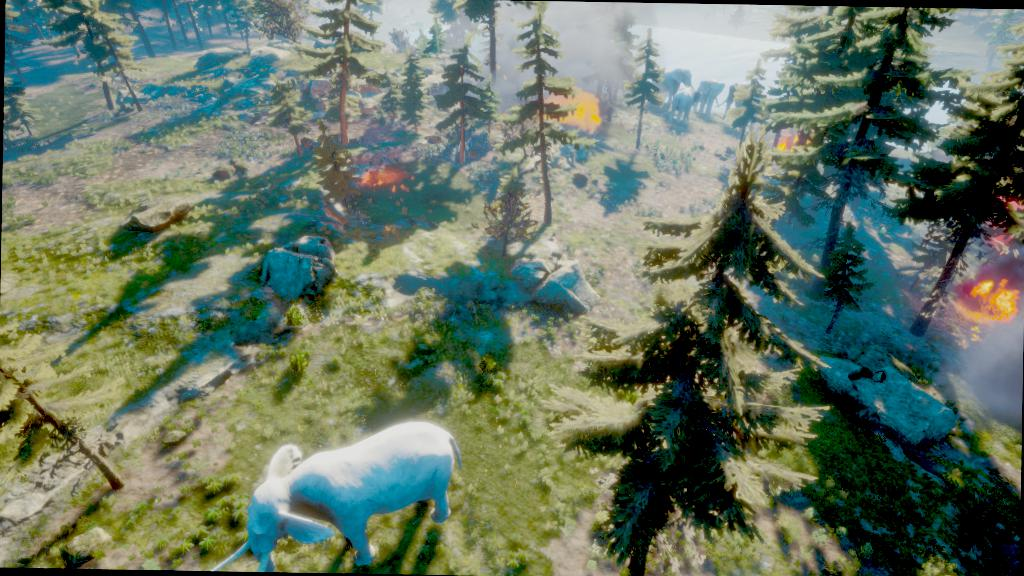Fire: (948, 255, 1020, 332), (532, 83, 606, 138), (346, 158, 414, 208), (769, 126, 820, 162)
elephant: (201, 412, 472, 574), (660, 84, 704, 136), (646, 66, 702, 104), (690, 74, 727, 118)
smoke: (476, 0, 638, 102)
